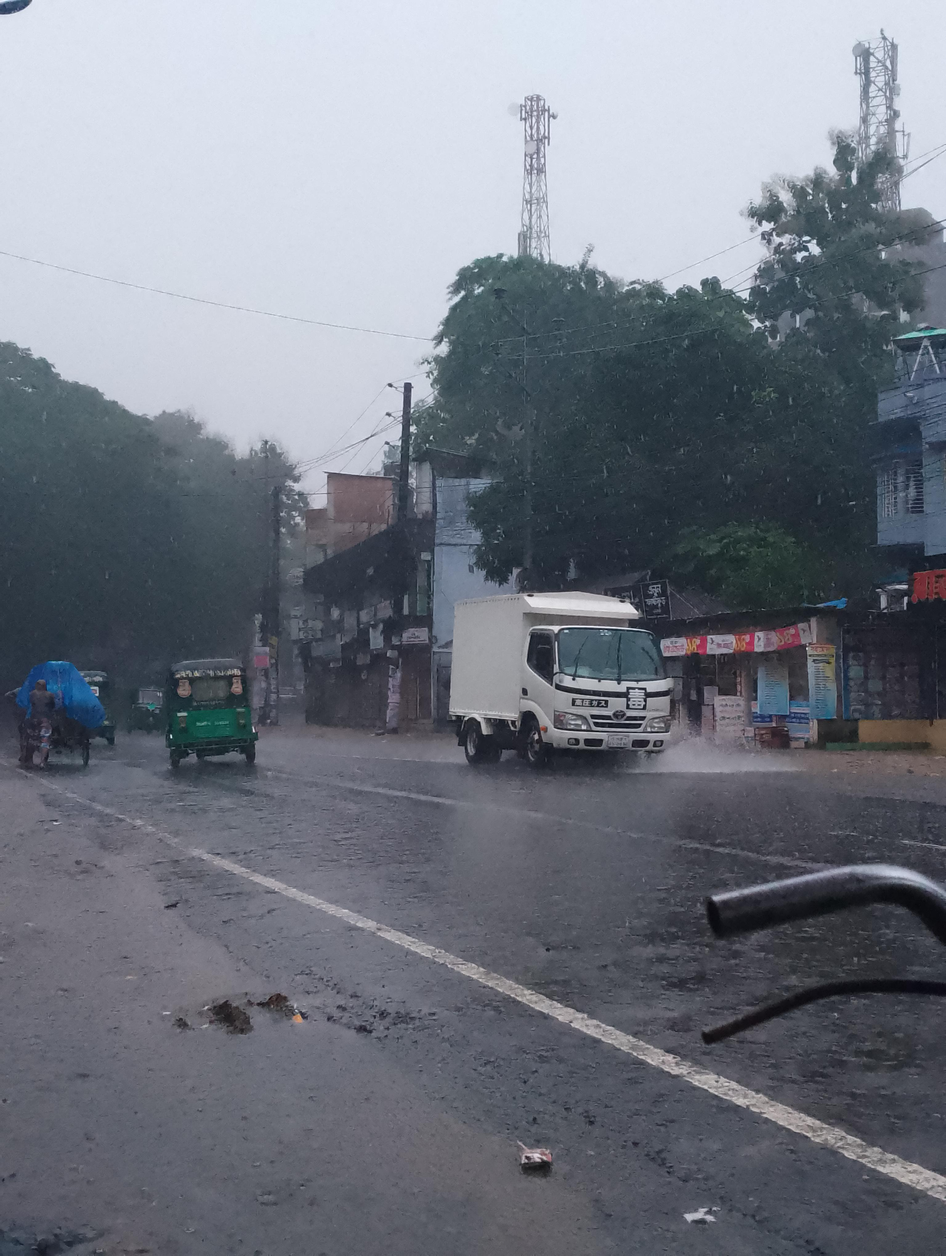Car: (429, 574, 694, 778)
